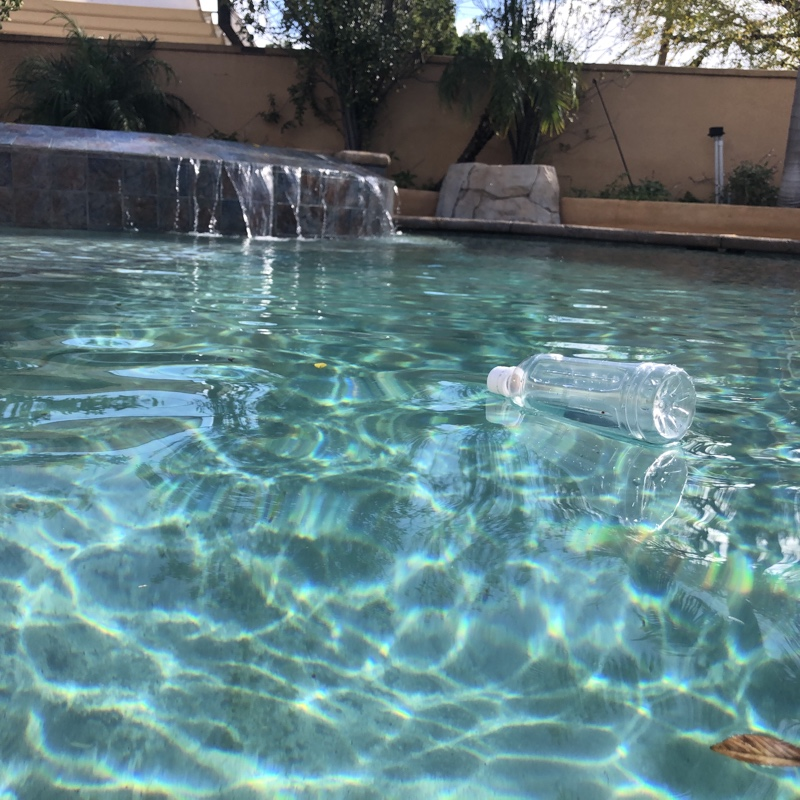Plastic Bottle: (483, 347, 699, 451)
